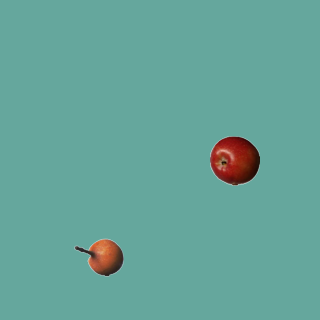Apple Braeburn: (209, 135, 259, 185)
Granadilla: (73, 232, 123, 282)
